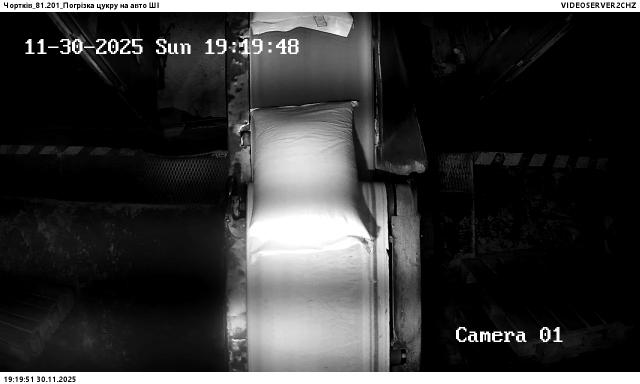bag: (250, 100, 376, 262), (252, 13, 359, 37)
